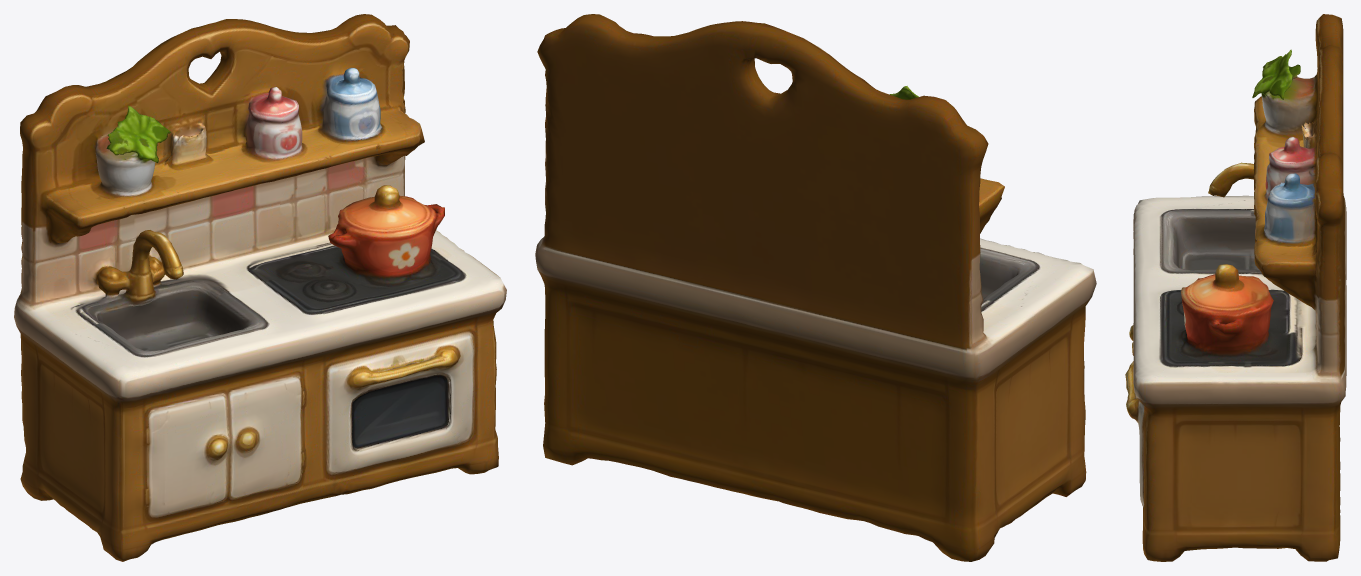
Rendered from Wood_colorful_kitchen.glb.
3 views of the same model, side by side, from view 1: azimuth 30°, elevation 25°; view 2: azimuth 150°, elevation 25°; view 3: azimuth 270°, elevation 25° (orthographic). The views are drawn at different scales.
Parts seen in each view (by area): view 1: RETOPO; view 2: RETOPO; view 3: RETOPO.
Boxes of the visible parts, x1,y1,x2,y2 form: RETOPO: (14, 14, 506, 561); RETOPO: (535, 14, 1096, 561); RETOPO: (1125, 14, 1346, 561).
Size of the model in its own units: 0.8156 by 0.8403 by 0.4063.
Materials: 1 (1 with a texture image).
